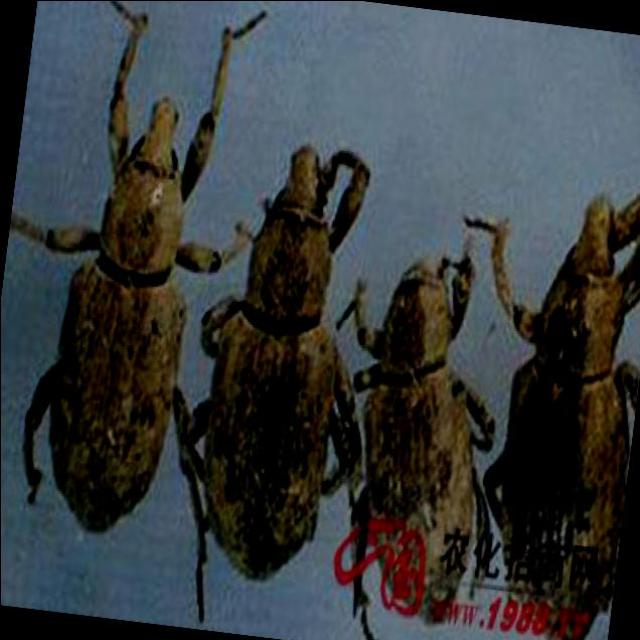ricebug: (10, 4, 264, 529), (465, 194, 640, 640), (201, 144, 368, 577), (353, 254, 493, 600)
